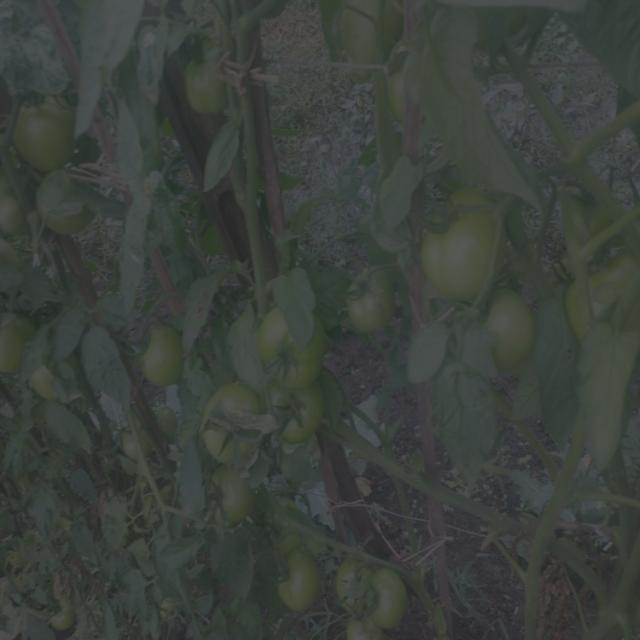tomato: (418, 206, 494, 291), (255, 307, 335, 385), (201, 379, 263, 470), (8, 97, 77, 171), (134, 311, 189, 392), (274, 546, 329, 618), (266, 387, 327, 447), (346, 271, 395, 342), (484, 285, 530, 359), (340, 1, 399, 58), (179, 58, 234, 117), (365, 562, 411, 629), (211, 473, 259, 524), (336, 550, 370, 619), (569, 184, 606, 235), (1, 311, 30, 376), (42, 210, 96, 244), (559, 273, 590, 330), (337, 616, 385, 640), (1, 191, 22, 240), (390, 46, 404, 118), (115, 420, 135, 463), (49, 596, 69, 628)
